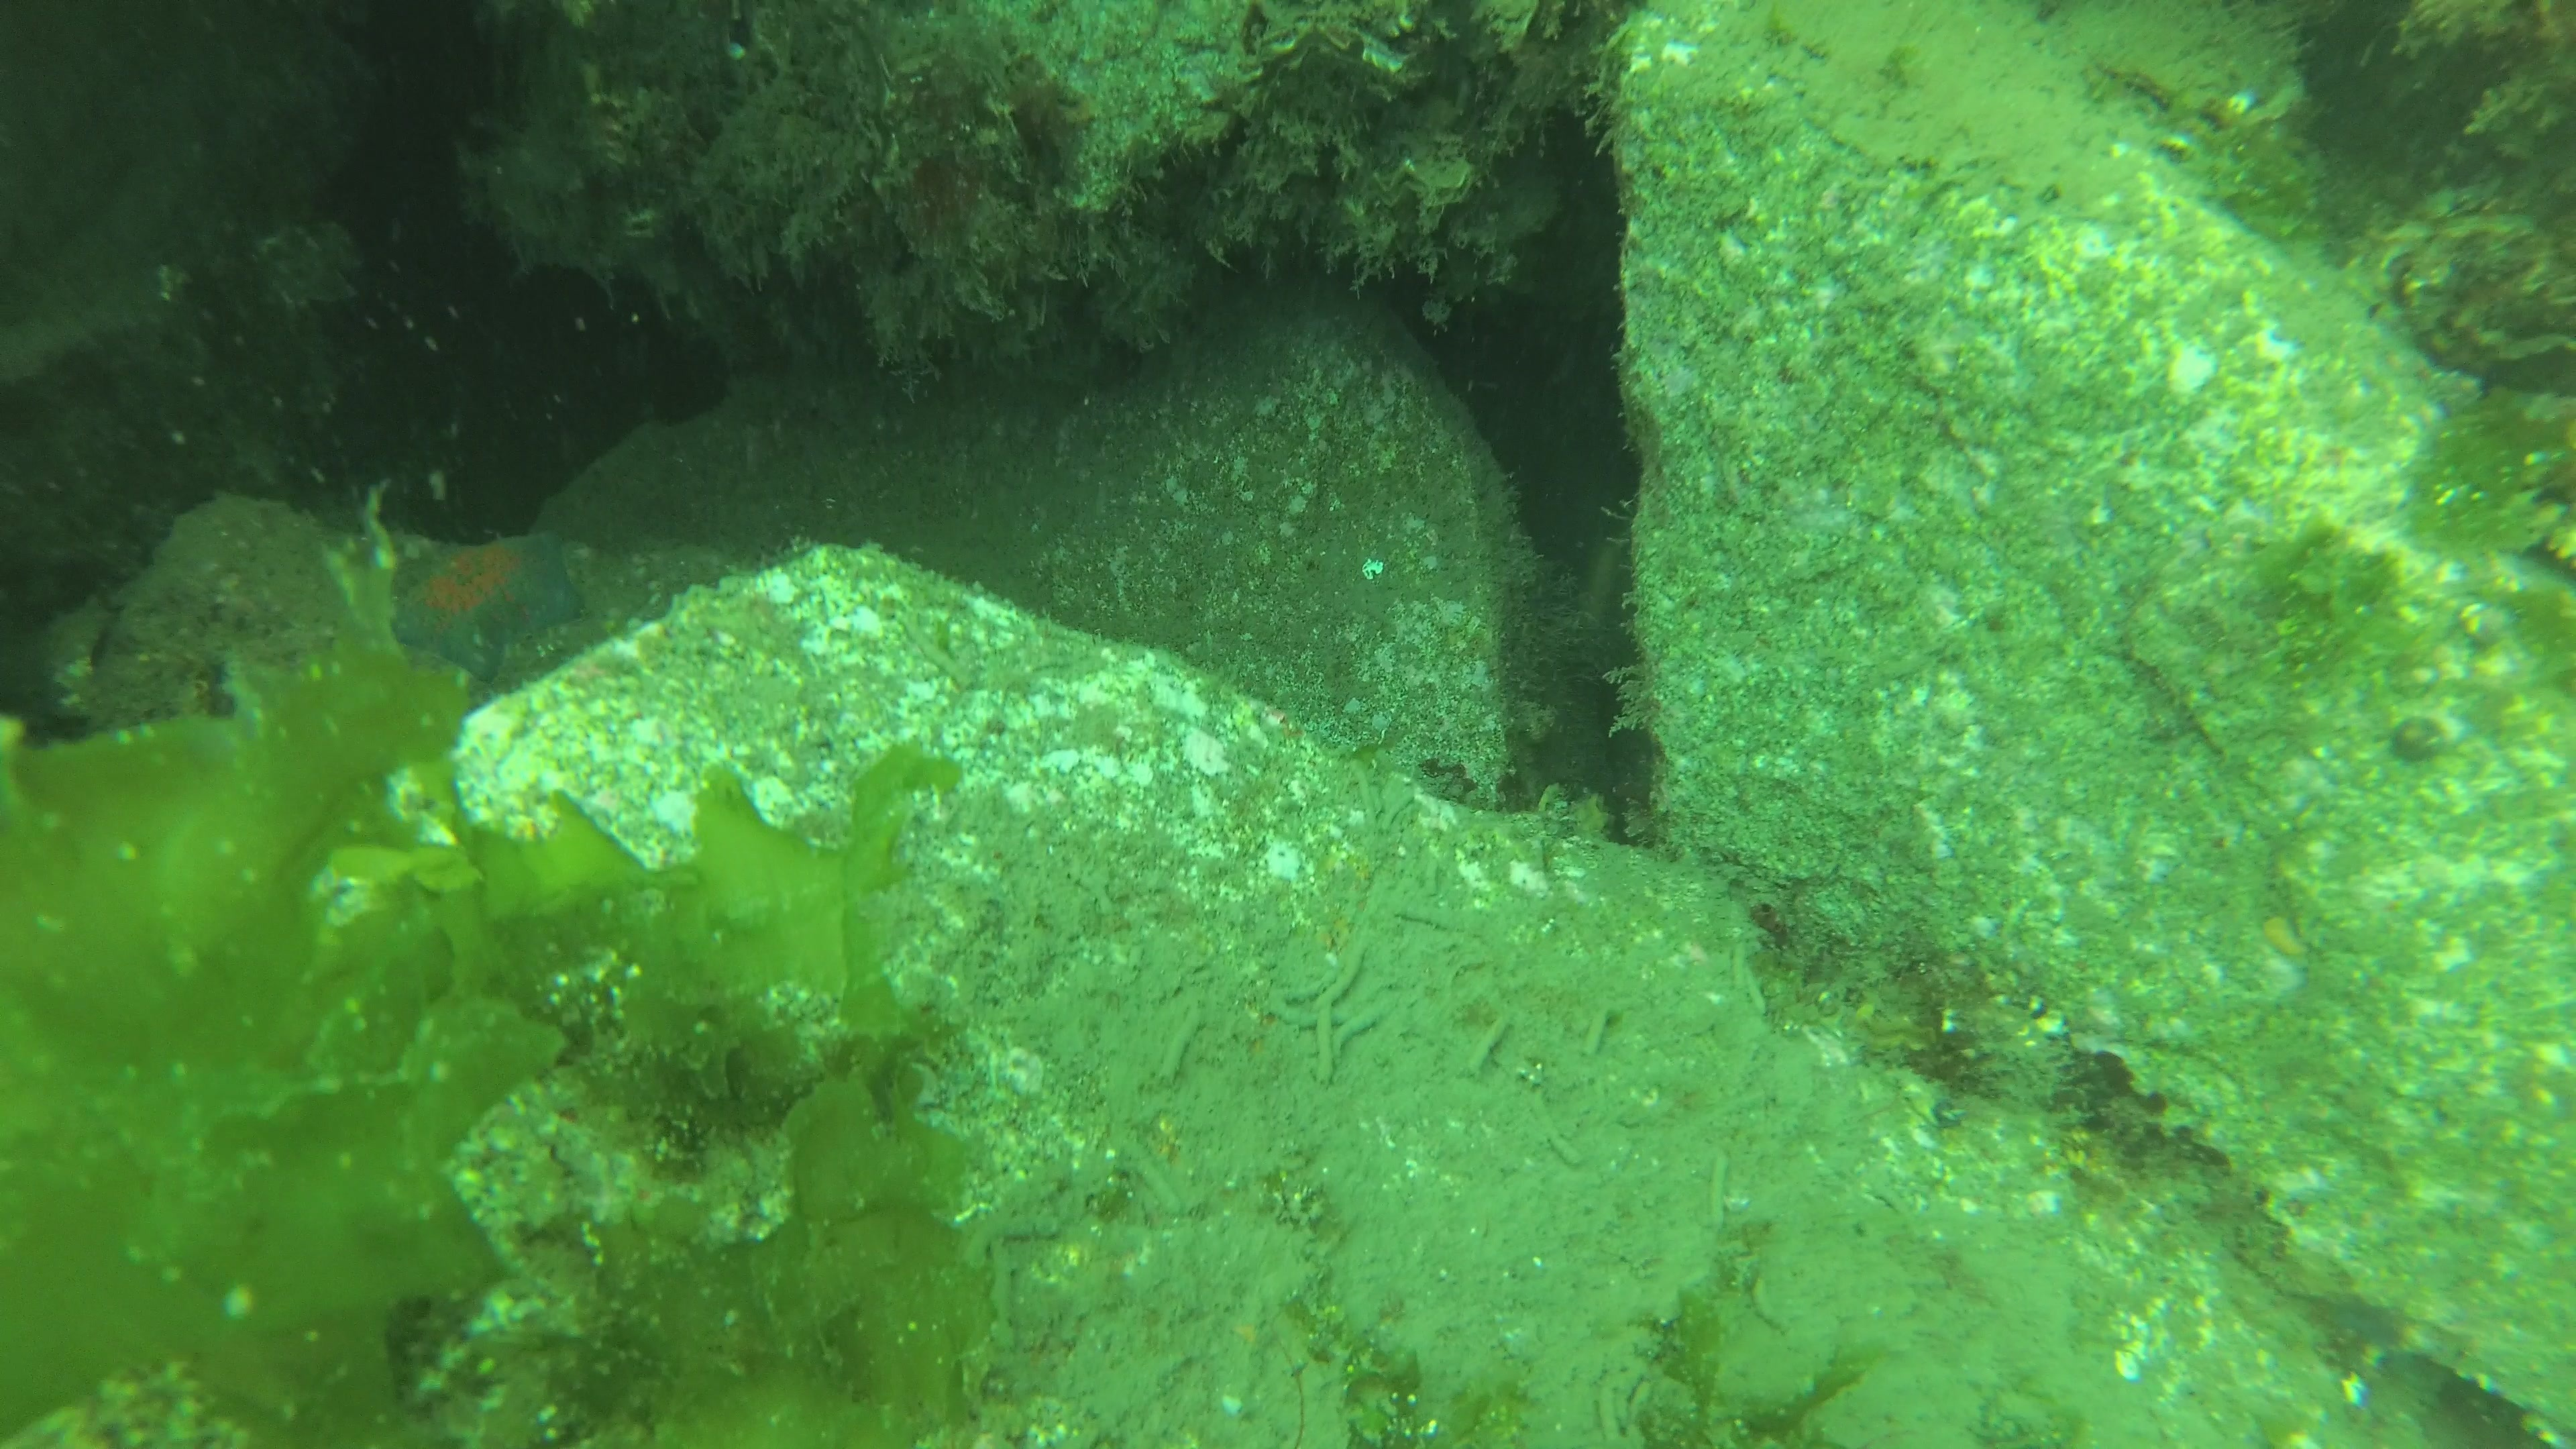starfish: (389, 525, 584, 688)
